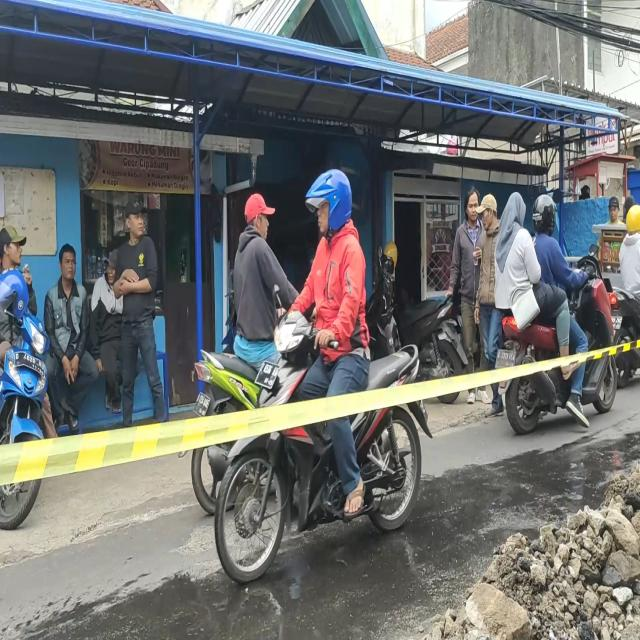helmet: (308, 169, 353, 235), (534, 194, 558, 234)
no-helmet: (245, 196, 272, 244), (505, 192, 527, 228)
